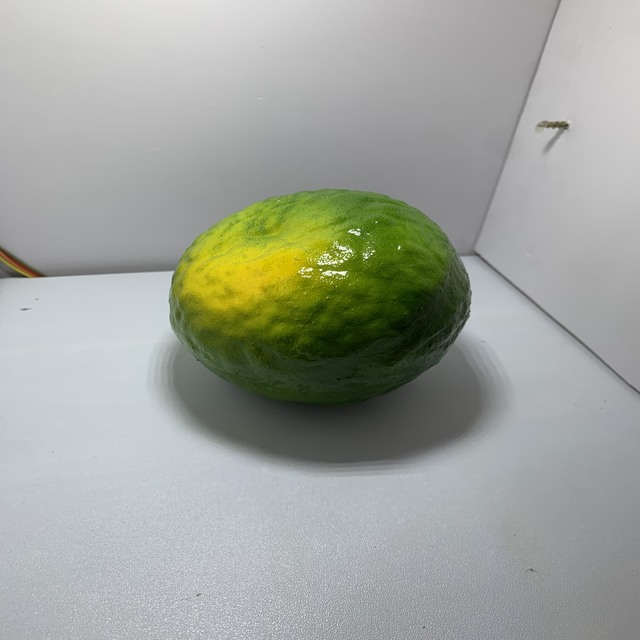Cam xanh: (162, 187, 476, 414)
